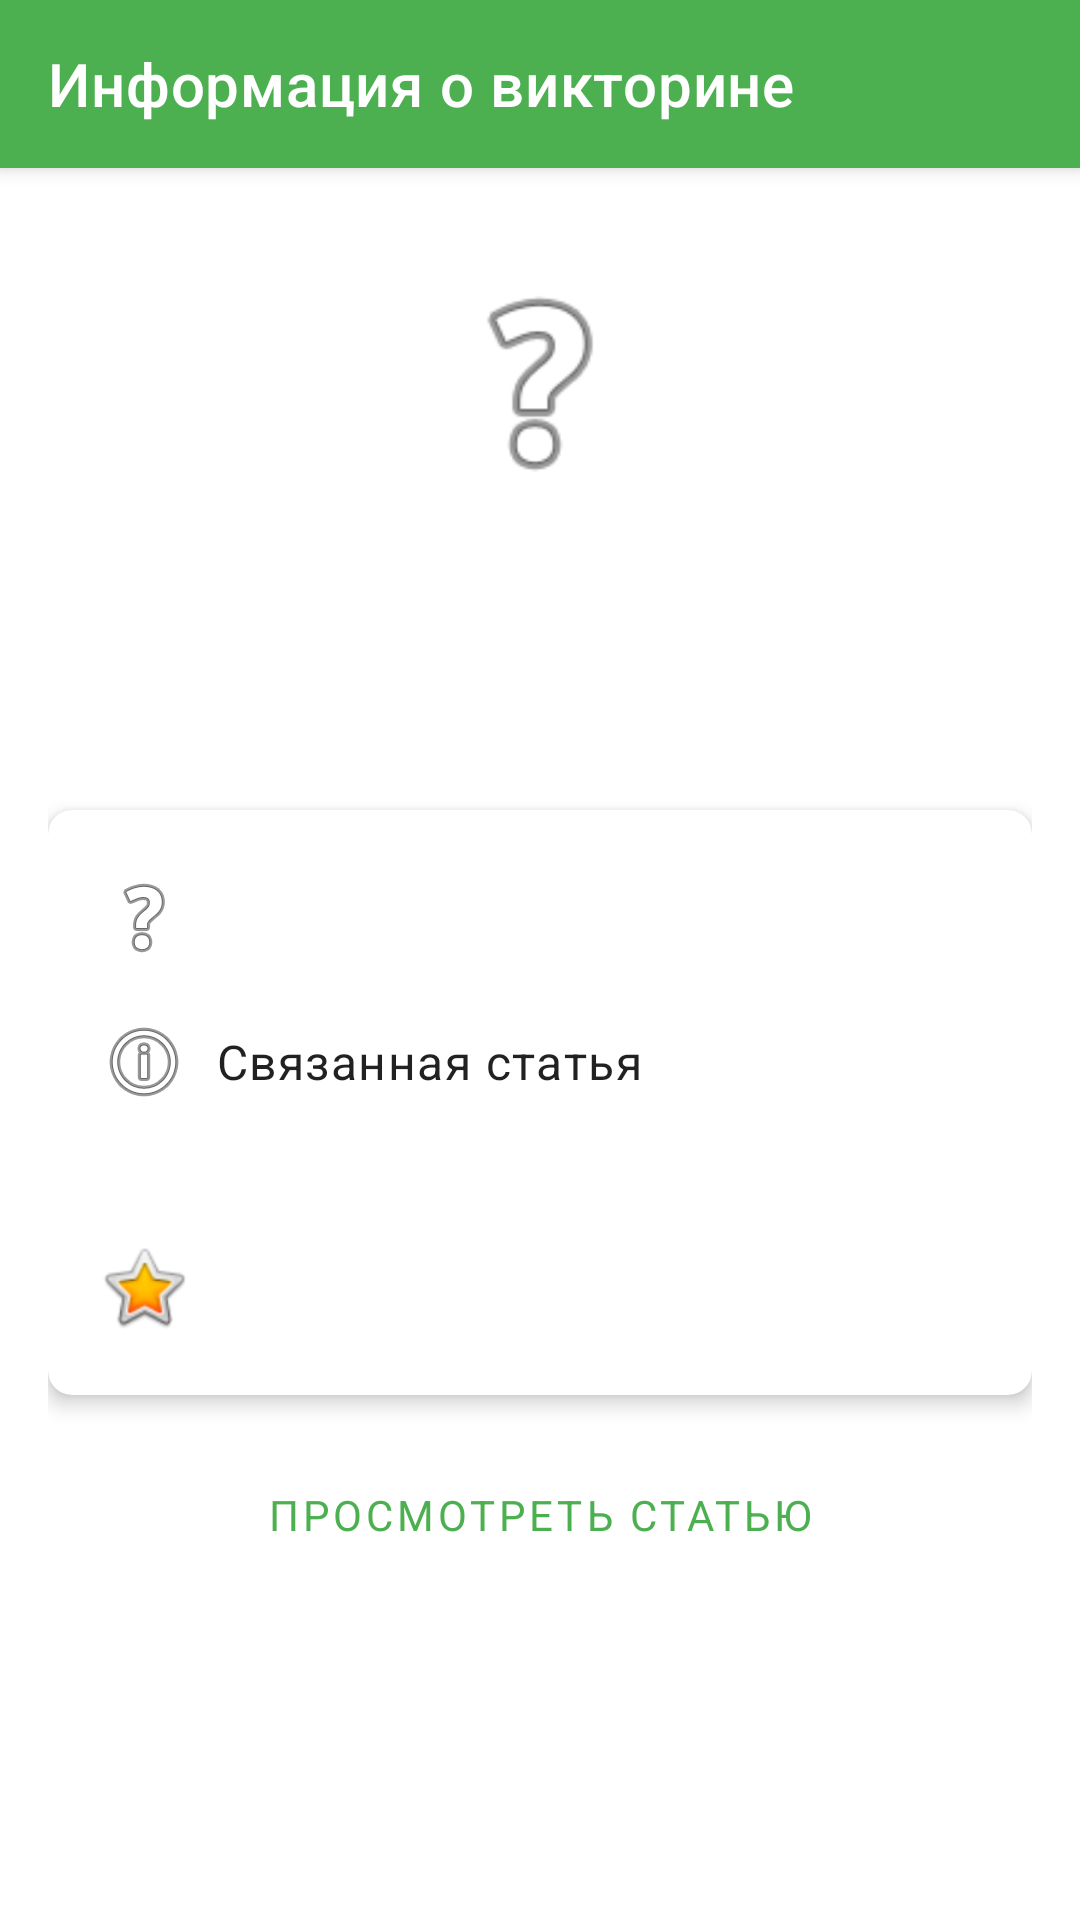

Point at icon controls on the screen. Image size 1080 x 1920, points as (x,y).
Иконка викторины: (540,384)
